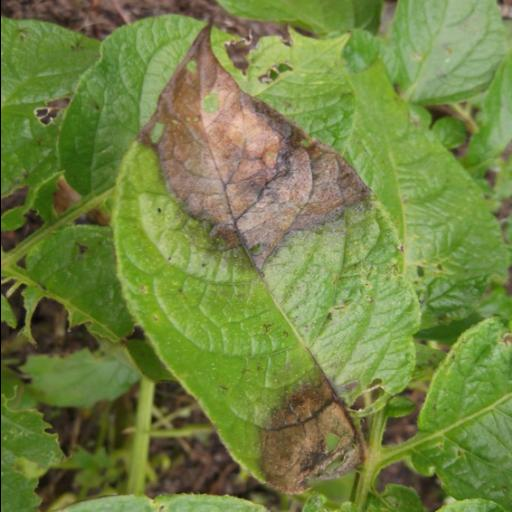disease_tomato: (106, 26, 420, 496)
